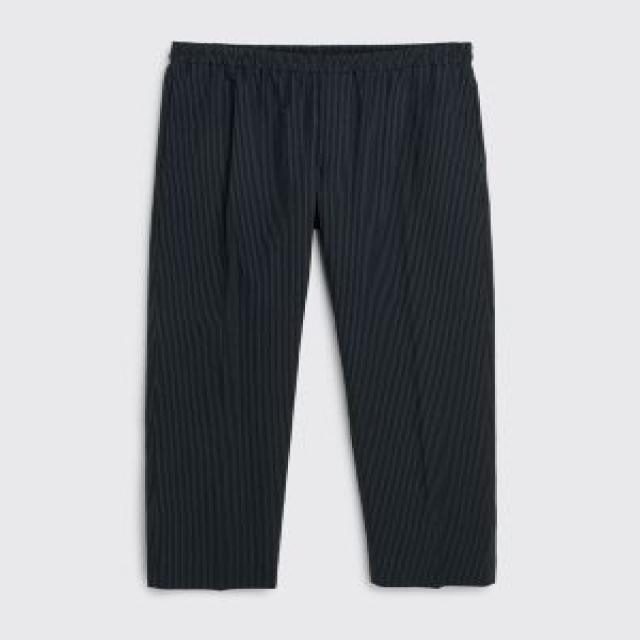long-pants: (145, 43, 499, 597)
